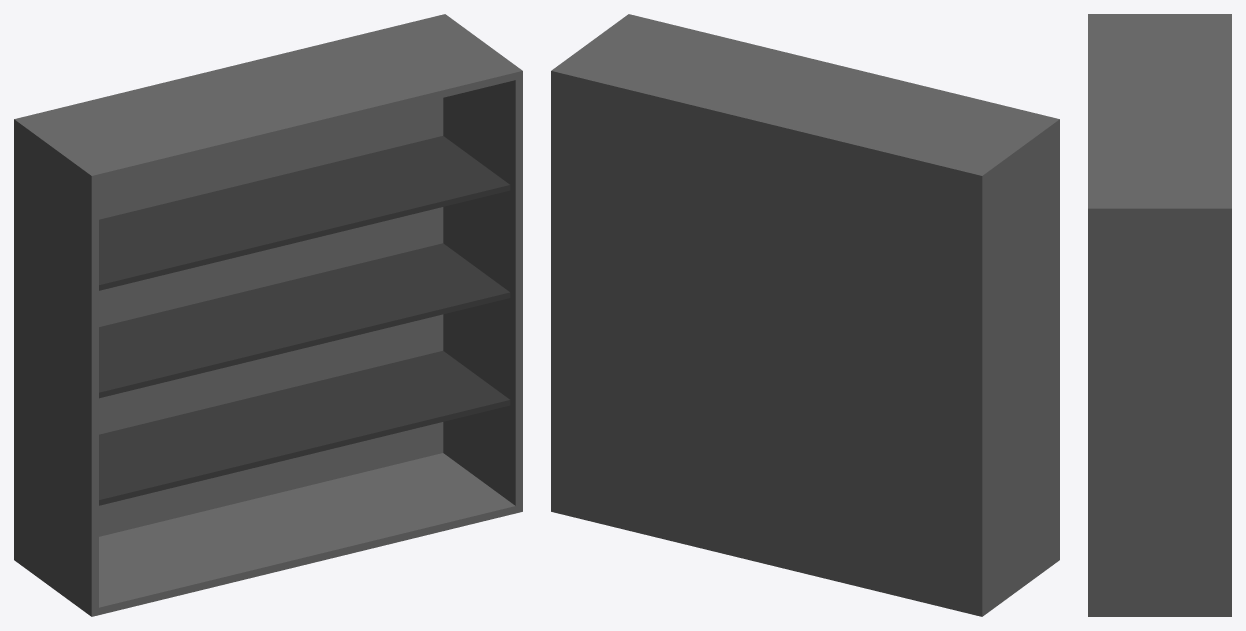
The model's file is armario.fbx.
3 views of the same model, side by side, from view 1: azimuth 30°, elevation 25°; view 2: azimuth 150°, elevation 25°; view 3: azimuth 270°, elevation 25° (orthographic). The views are drawn at different scales.
Visible parts, largest first — view 1: Armario; view 2: Armario; view 3: Armario.
Boxes of the visible parts, bbox=[...] form: Armario: bbox=[14, 14, 522, 616]; Armario: bbox=[551, 14, 1059, 616]; Armario: bbox=[1088, 14, 1231, 616].
Bounding box in the file's own units: 232 × 227 × 72.41.
